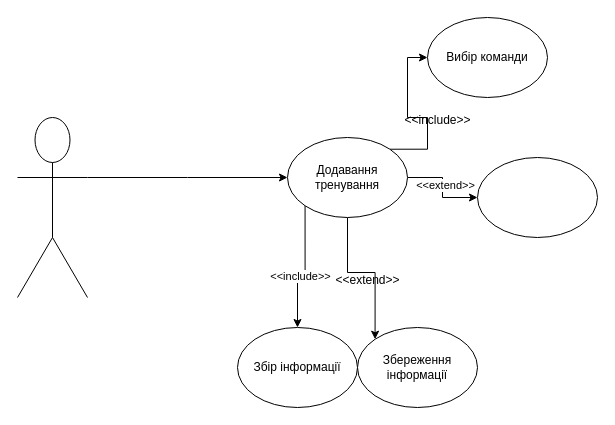
Image size: 615x425. Some labels were removed from this diagram. The centre of each missing label's shape, as x and y in pixels:
Перегляд розкладу: [537,197]
Тренер: [52,207]
